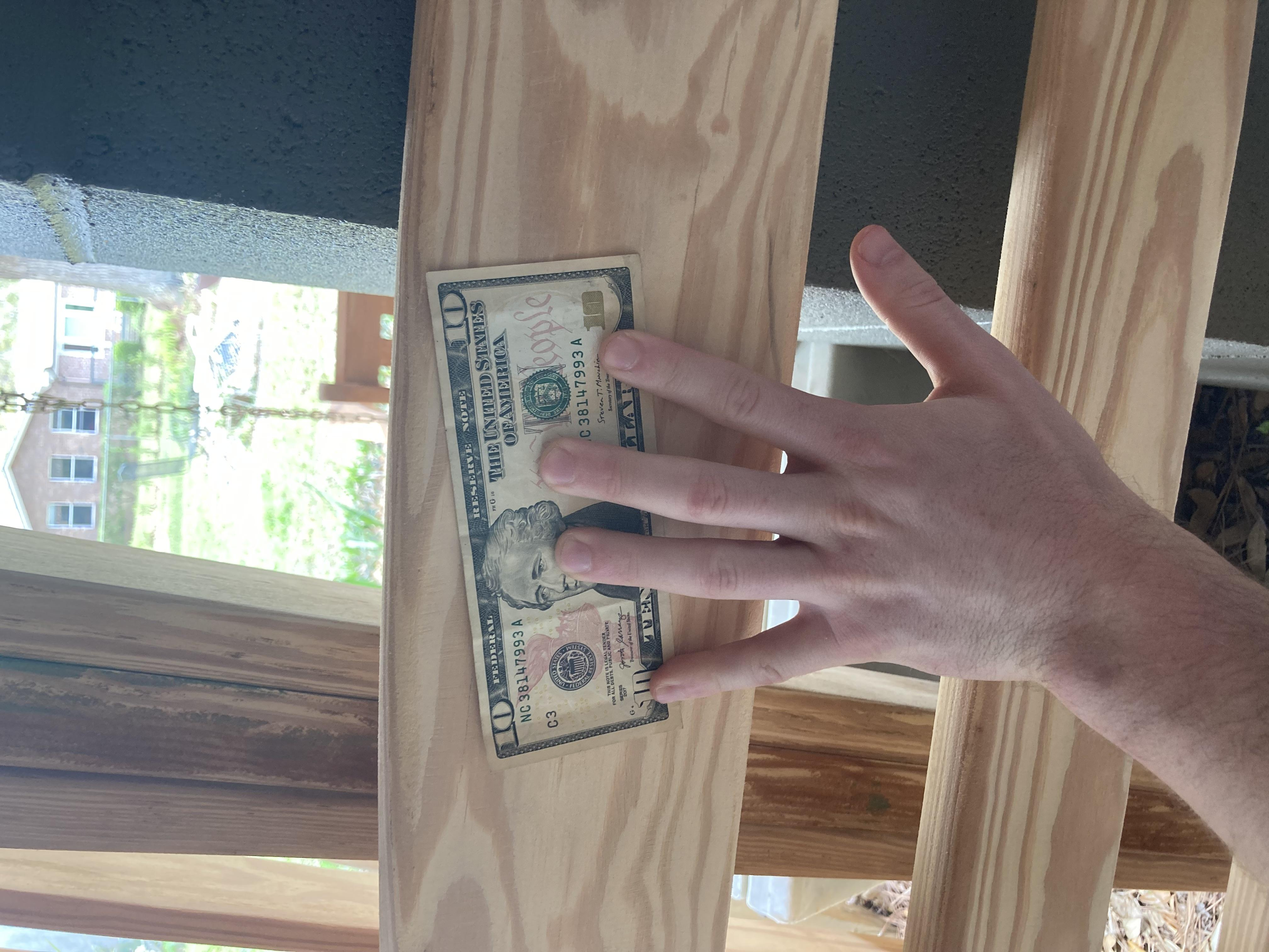ten-front: (241, 318, 933, 513)
